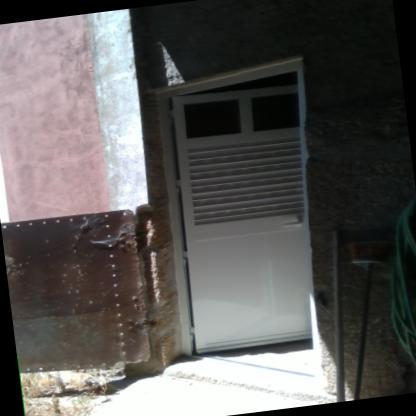semi: (133, 35, 351, 378)
